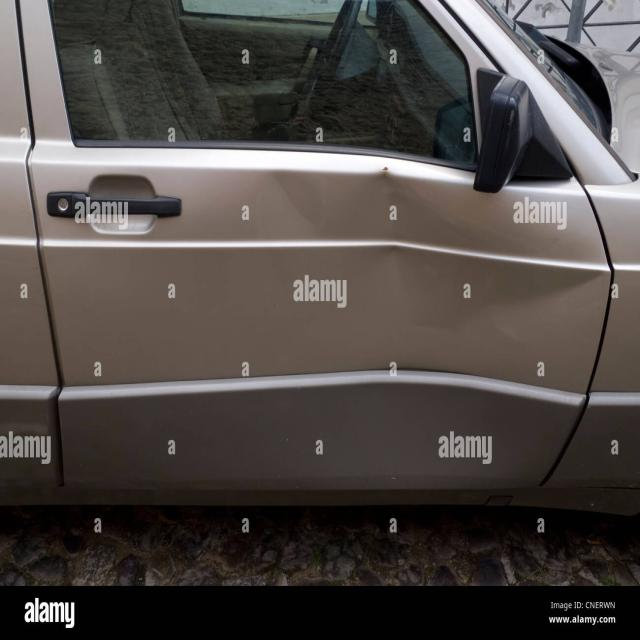dent: (235, 163, 616, 494)
